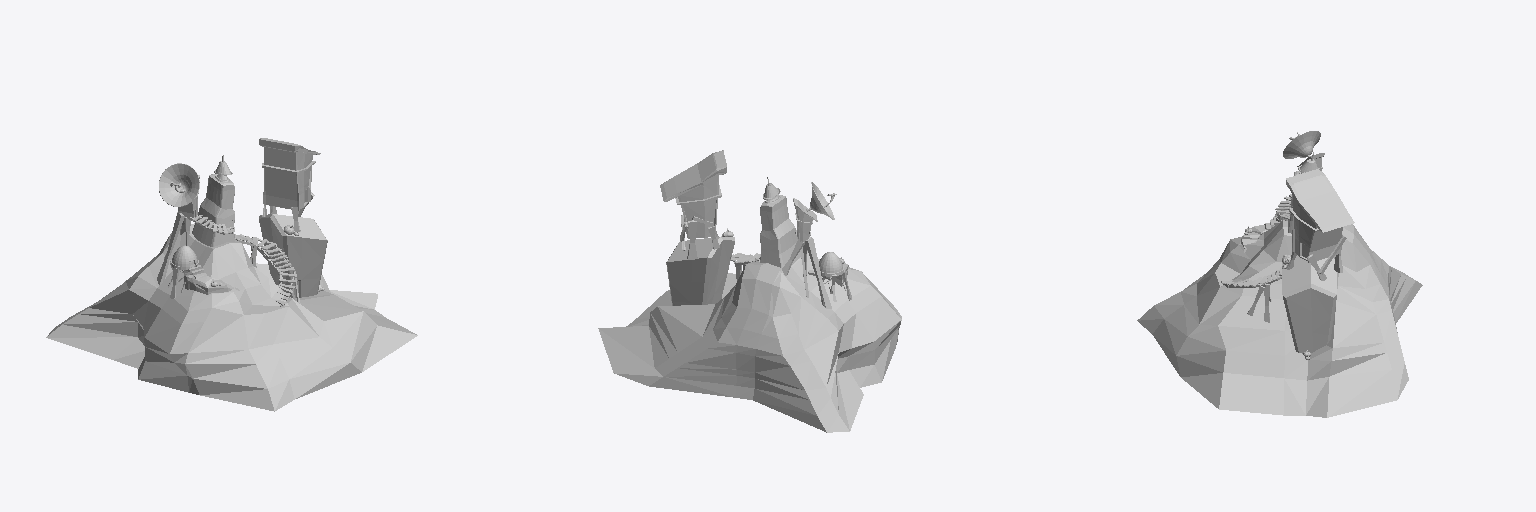
Rendered from Precarious Buildings SepUV.obj.
3 views of the same model, side by side, from view 1: azimuth 30°, elevation 25°; view 2: azimuth 150°, elevation 25°; view 3: azimuth 270°, elevation 25° (orthographic).
Visible parts, largest first — view 1: Land House, House Houses House2, House House_4 Houses, House Houses Main_House_main Main_House, House Satelite_Part_1_Geo Satelite, House Houses EEGoo_House_1 EEGoo_House_3; view 2: Land House, House Houses House2, House House_4 Houses, House Houses Main_House_main Main_House, House Houses House_3 House_3; view 3: Land House, House House_4 Houses, House Houses House2, House Satelite_Part_1_Geo Satelite.
Boxes of the visible parts, x1,y1,x2,y2 form: Land House: [46, 223, 417, 411]; House Houses House2: [259, 214, 327, 297]; House House_4 Houses: [259, 138, 320, 210]; House Houses Main_House_main Main_House: [192, 174, 234, 246]; House Satelite_Part_1_Geo Satelite: [159, 163, 199, 206]; House Houses EEGoo_House_1 EEGoo_House_3: [184, 265, 239, 294]; Land House: [598, 251, 901, 432]; House Houses House2: [666, 237, 734, 305]; House House_4 Houses: [660, 150, 726, 238]; House Houses Main_House_main Main_House: [760, 195, 800, 267]; House Houses House_3 House_3: [793, 198, 817, 242]; Land House: [1137, 220, 1422, 417]; House House_4 Houses: [1286, 169, 1354, 262]; House Houses House2: [1282, 255, 1336, 353]; House Satelite_Part_1_Geo Satelite: [1283, 131, 1320, 158].
Bounding box in the file's own units: 139 × 89.07 × 118.